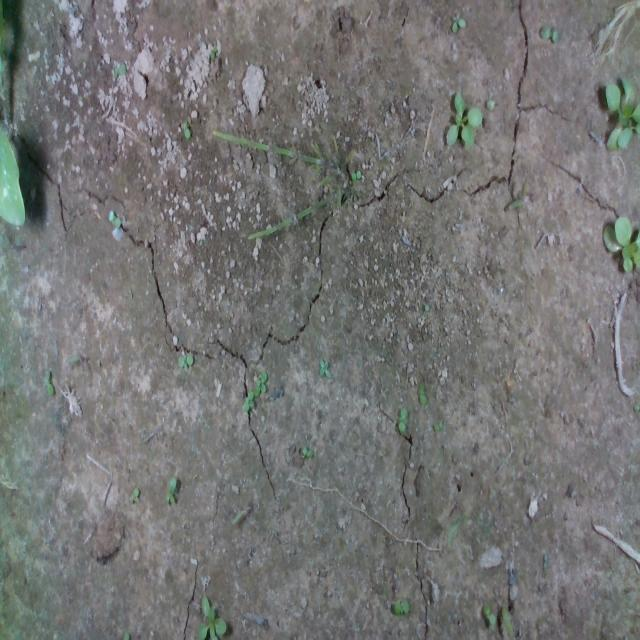weed: (449, 8, 473, 44), (165, 473, 178, 512), (110, 207, 126, 234), (317, 356, 333, 380), (178, 348, 192, 374), (128, 484, 142, 506), (399, 403, 407, 438), (183, 118, 192, 140)
